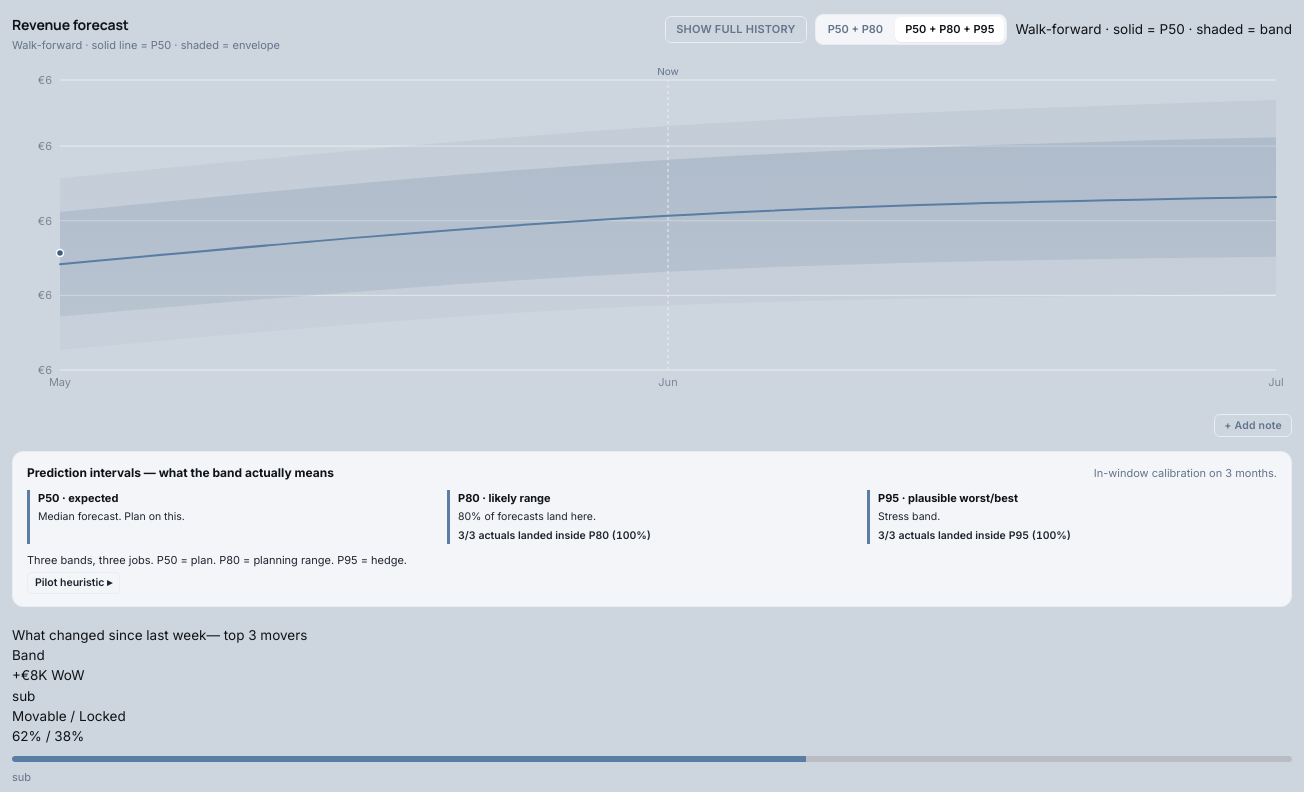
Test: HeroForecast intervals (Phase 6) › expands the heuristic disclosure on click
Expected: the text "p95 = primary ±" is not shown
Click the button "Pilot heuristic ▸".
click(74, 583)  # box [27, 572, 120, 594]
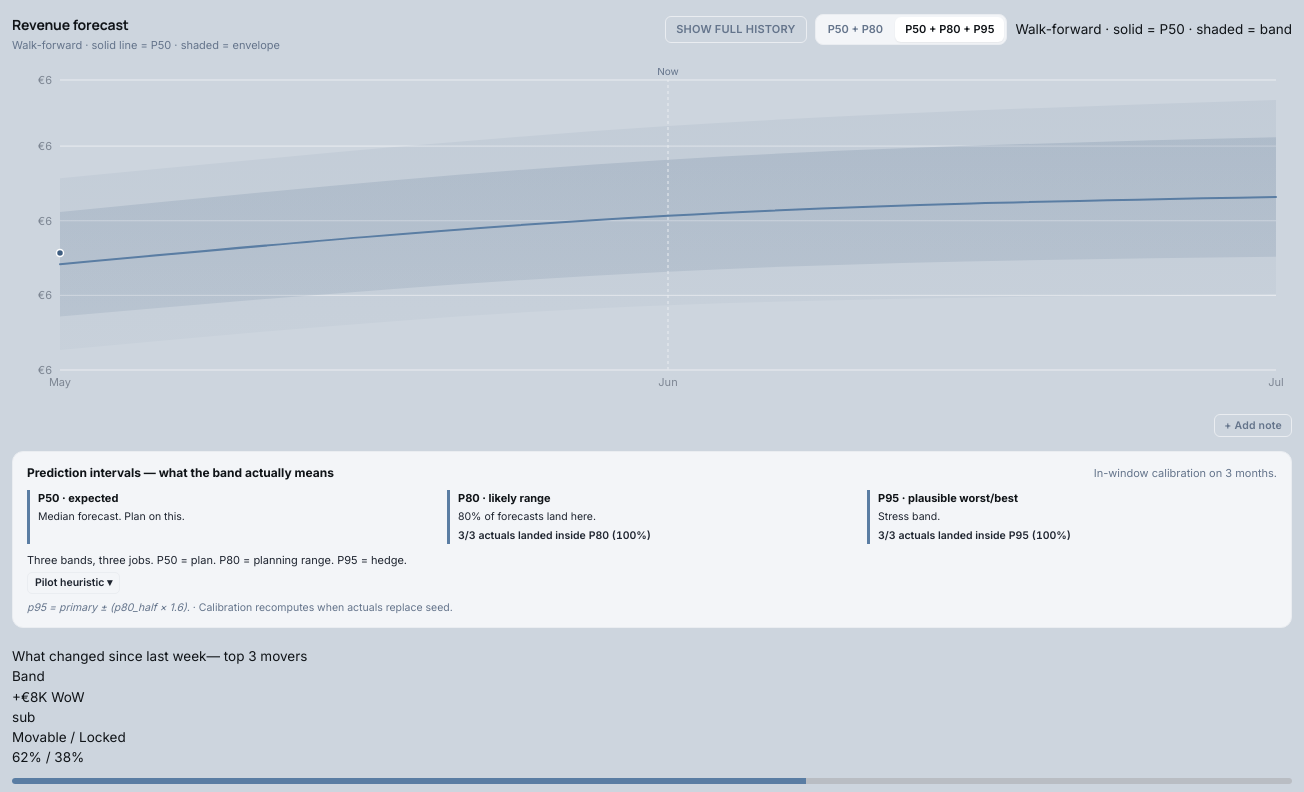
Expected: the text "p95 = primary ±" is shown, [27, 601, 190, 614]
